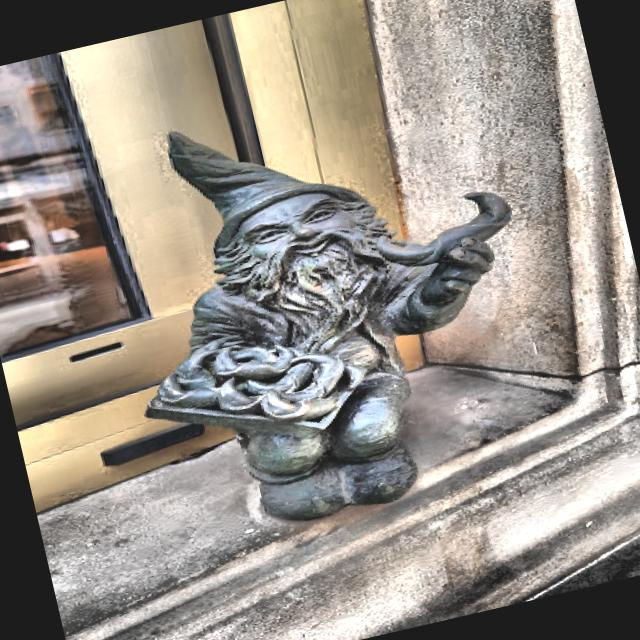Rogalik: (147, 132, 511, 523)
